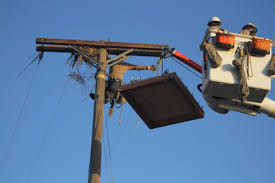bird-nest: (79, 46, 97, 62)
